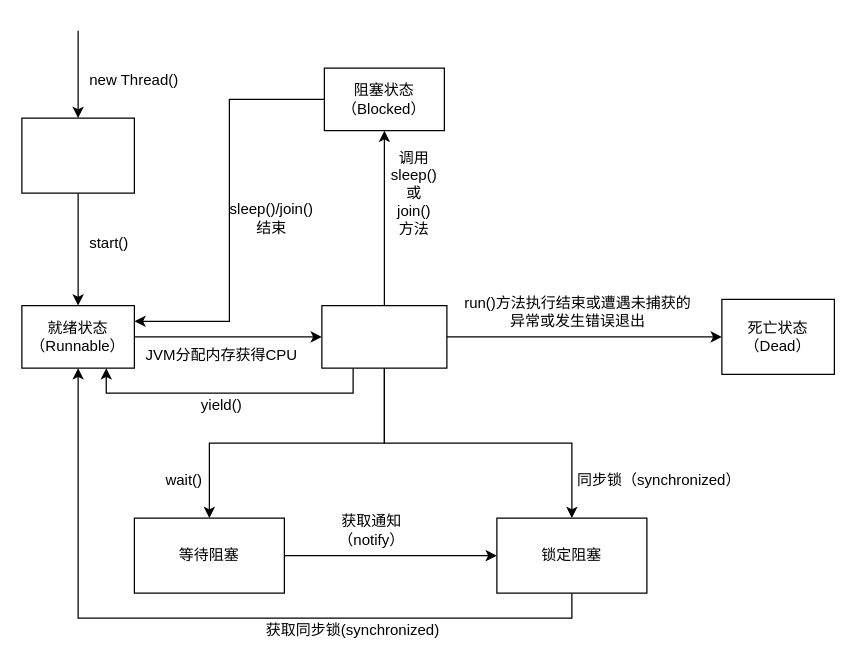
Image size: 856x665. Some labels were removed from this diagram. The shapes that lost their labels are listed below. From the top down, each one's box as (x1, y1, x2, y2) in pixels, then its label:
(21, 117, 134, 193): 创建状态（New）
(321, 304, 447, 368): 运行状态（Running）
